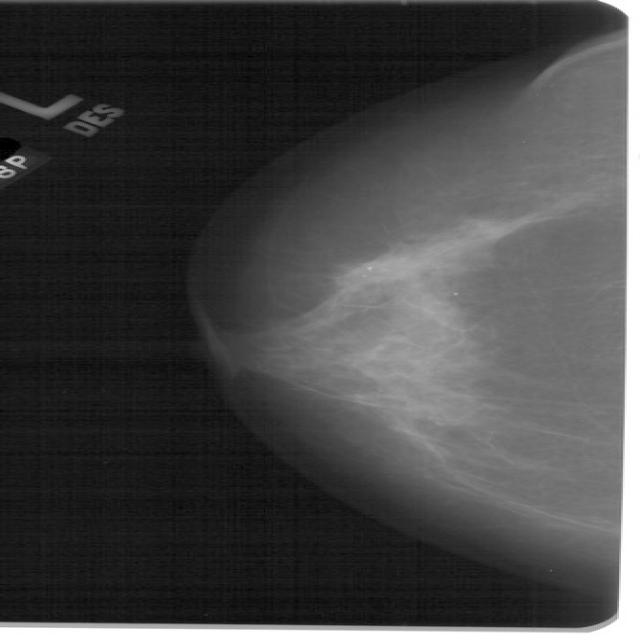tumour: (332, 254, 420, 284)
